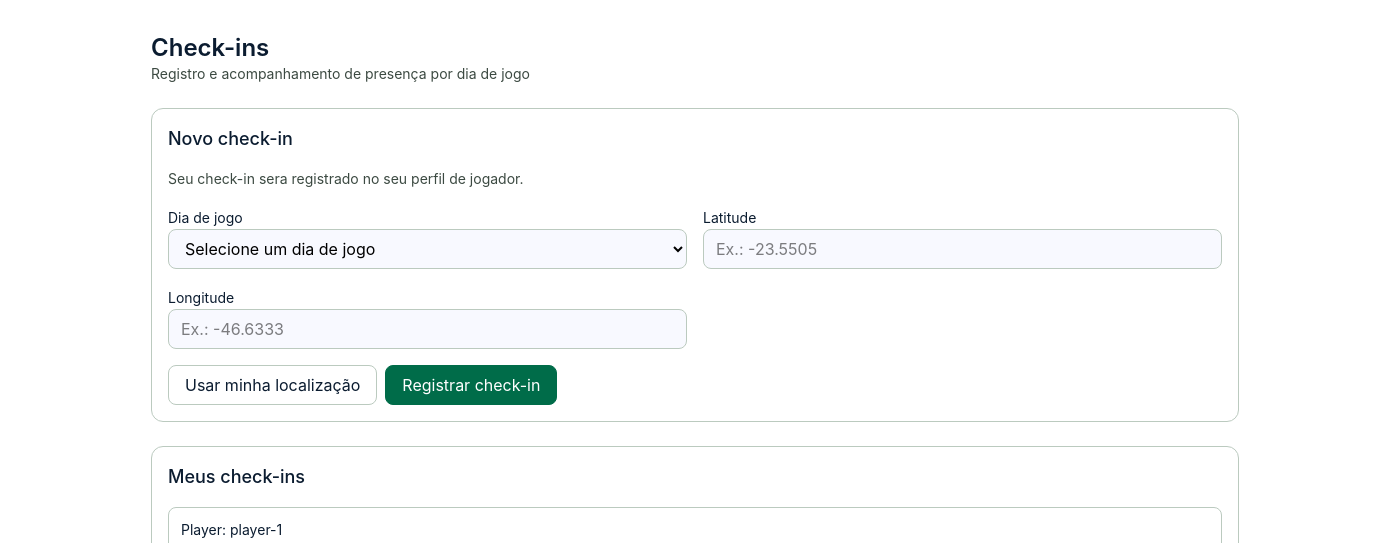
it: CheckinsPage › deve submeter criação de check-in do usuário logado com dados válidos
Select "05/05/2026 - Confirmed" in the dropdown labelled "Dia de jogo". click: coordinates (428, 249)
box: [168, 229, 687, 269]
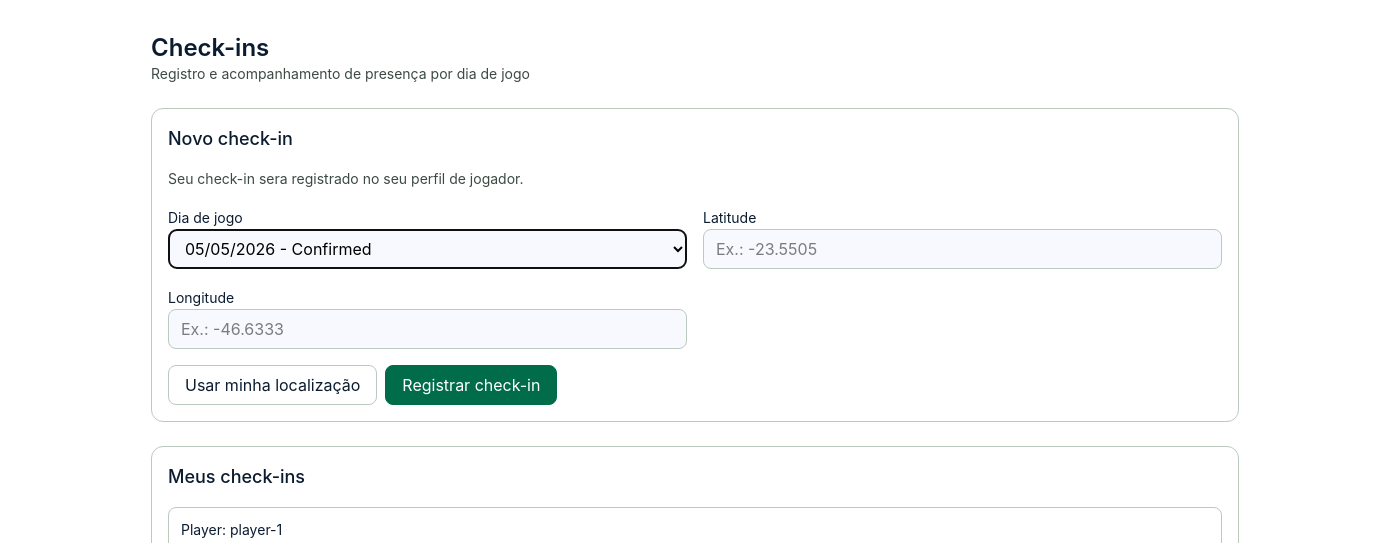
Type "-23.5505" into the number field labelled "Latitude". click: coordinates (962, 249)
box: [703, 229, 1222, 269]
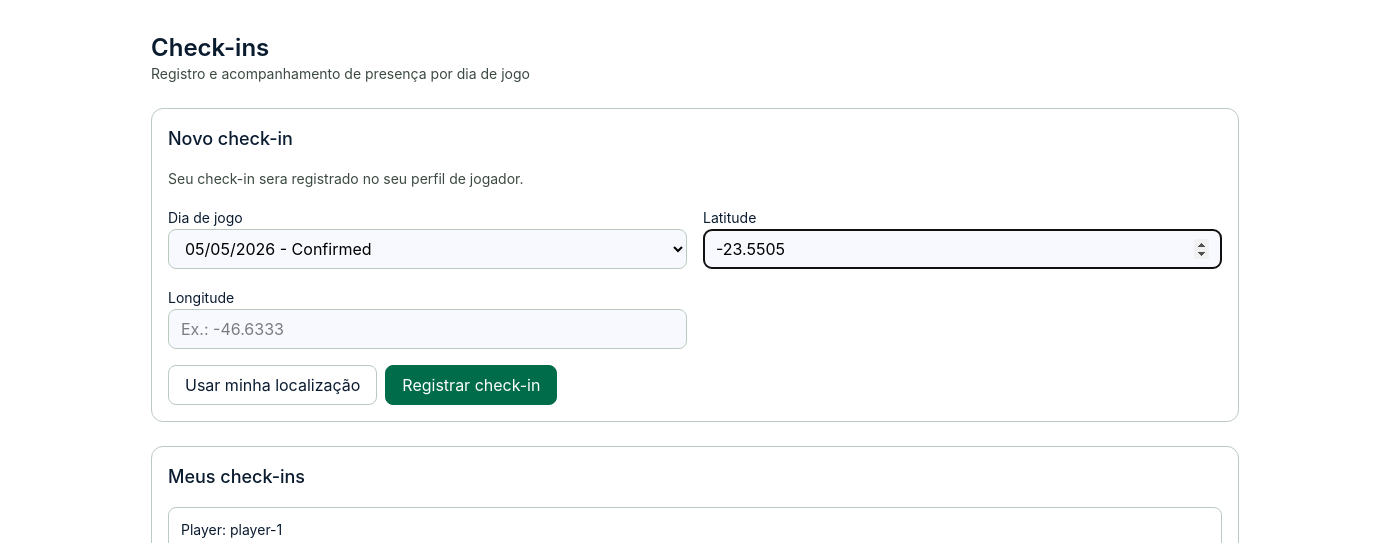
Type "-46.6333" into the number field labelled "Longitude". click: coordinates (428, 329)
box: [168, 309, 687, 349]
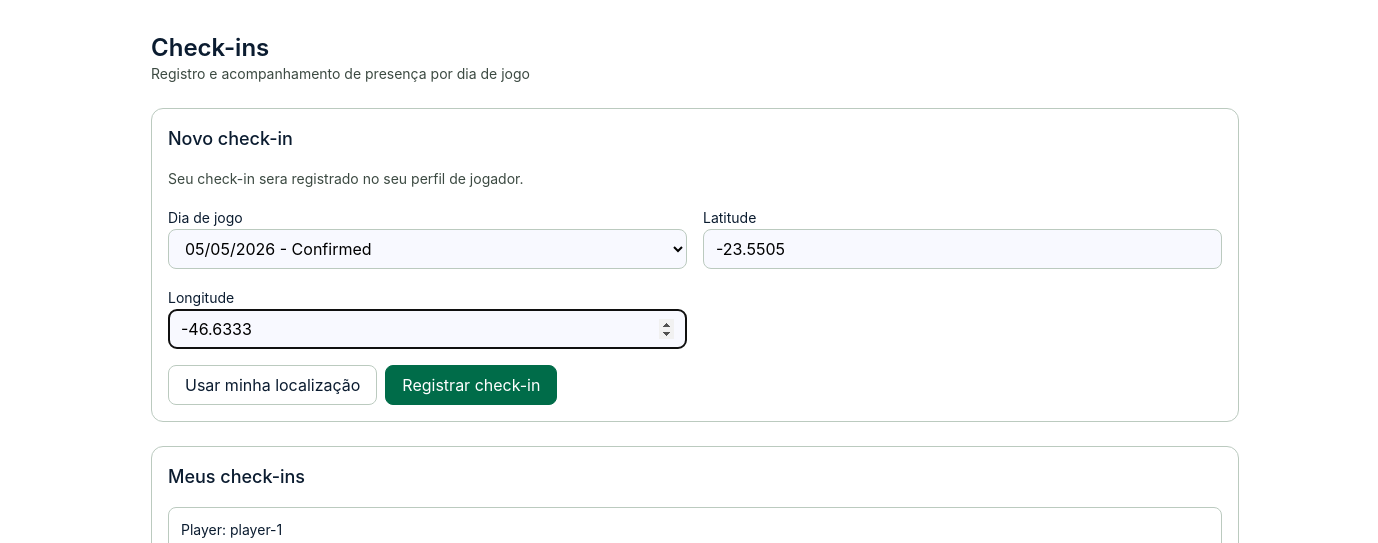
Click the button "Registrar check-in". click: coordinates (471, 385)
box: [385, 365, 557, 405]
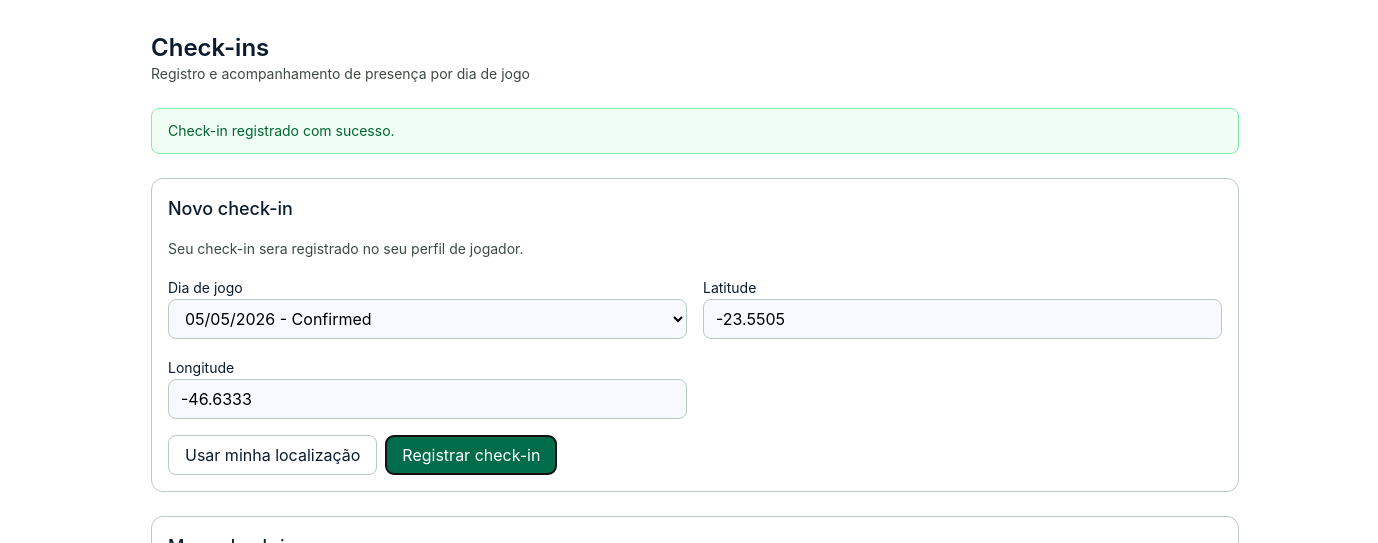
Now the text "Check-in registrado com sucesso." is shown, box [151, 108, 1239, 154]
